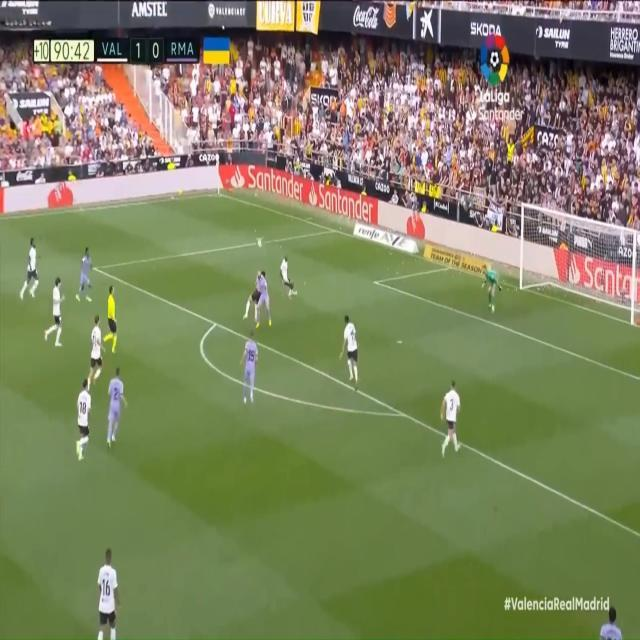ball: (258, 234, 265, 254)
goalkeeper: (480, 263, 502, 314)
player: (92, 541, 122, 640), (439, 372, 468, 461), (106, 363, 129, 453), (241, 328, 261, 412), (43, 276, 65, 349), (86, 307, 104, 393), (18, 236, 41, 303), (342, 312, 362, 386), (73, 378, 90, 461), (243, 261, 264, 327), (74, 243, 95, 307), (255, 271, 274, 332), (282, 248, 298, 301)
referee: (102, 277, 122, 357)
